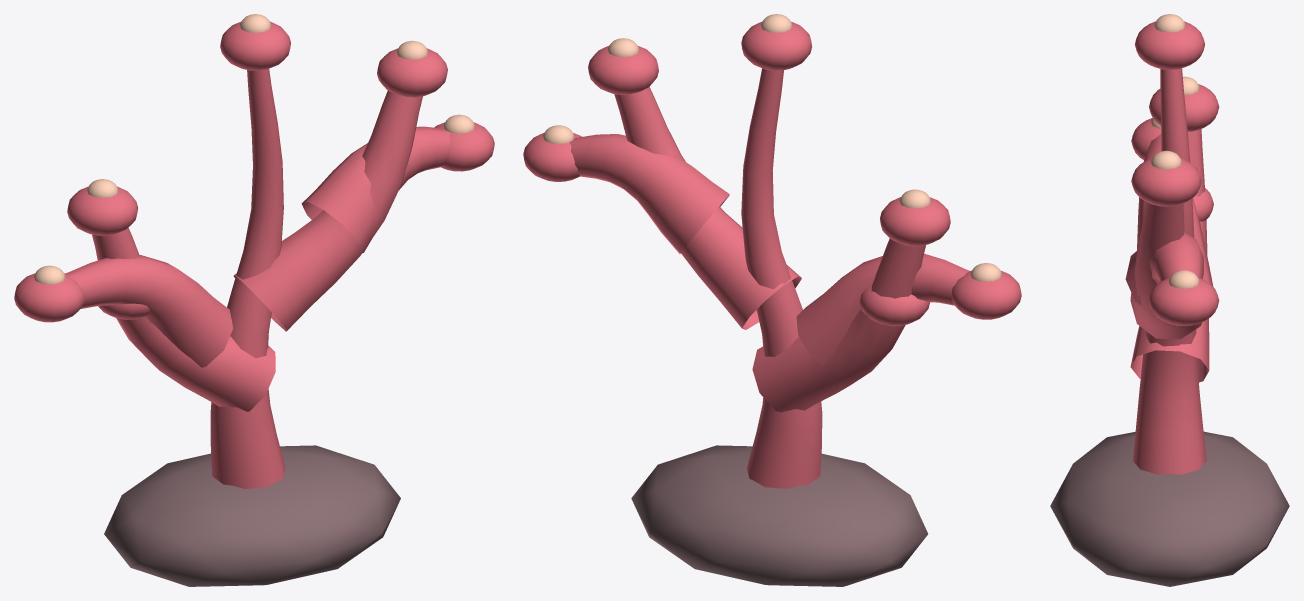
File: coral_branch.glb
3 views of the same model, side by side, from view 1: azimuth 30°, elevation 25°; view 2: azimuth 150°, elevation 25°; view 3: azimuth 270°, elevation 25° (orthographic).
Parts seen in each view (by area): view 1: coral_branch_textured_mesh; view 2: coral_branch_textured_mesh; view 3: coral_branch_textured_mesh.
Part boxes in pixels (x1,y1,x2,y2): coral_branch_textured_mesh: (14,14,494,586); coral_branch_textured_mesh: (523,14,1021,586); coral_branch_textured_mesh: (1050,14,1289,586).
Size of the model in its own units: 3.1 by 3.38 by 1.36.
1 material, 1 textured.
